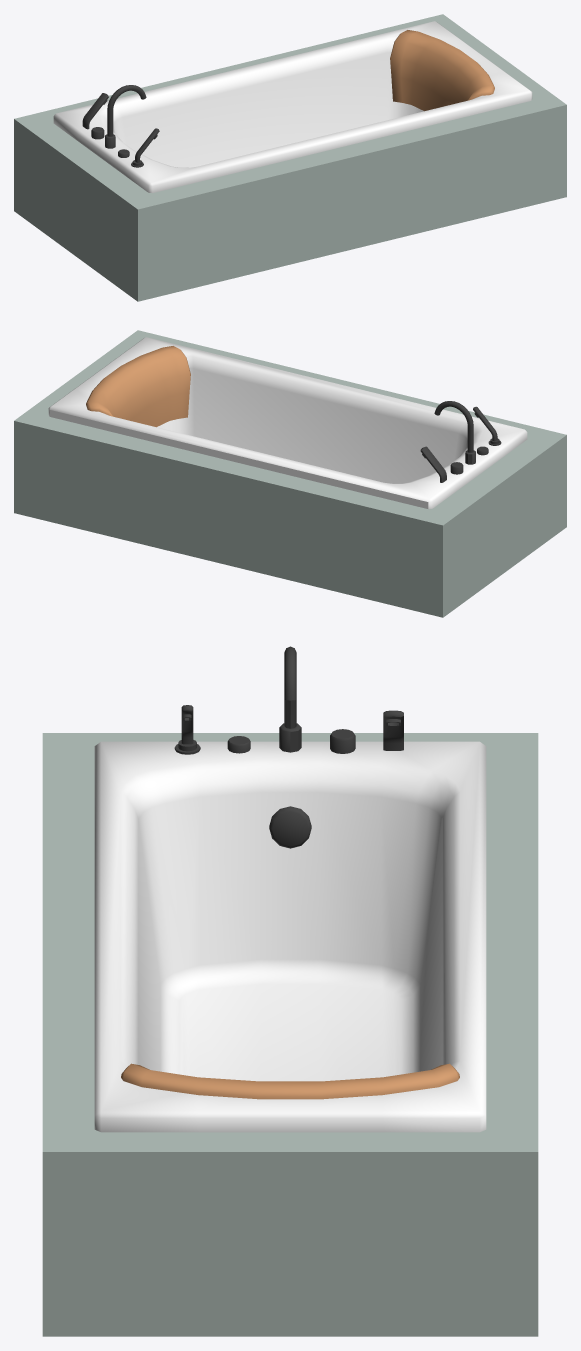
File: KOHLER1709T58.FBX
3 views of the same model, one above another, from view 1: azimuth 30°, elevation 25°; view 2: azimuth 150°, elevation 25°; view 3: azimuth 270°, elevation 25° (orthographic). The views are drawn at different scales.
Parts seen in each view (by area): view 1: KOHLER1709T58; view 2: KOHLER1709T58; view 3: KOHLER1709T58.
Part boxes in pixels (x1=…): KOHLER1709T58: x1=14, y1=14, x2=566, y2=301; KOHLER1709T58: x1=14, y1=330, x2=566, y2=617; KOHLER1709T58: x1=42, y1=646, x2=538, y2=1336.
Bounding box in the file's own units: 190 × 95 × 67.07.
